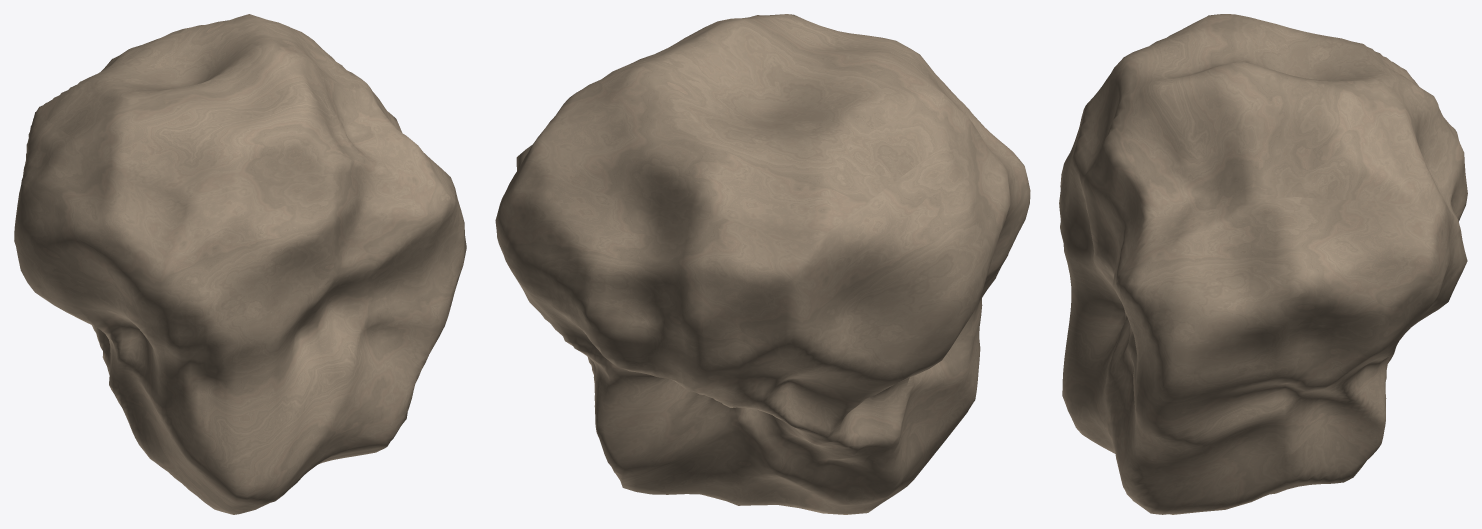
The model's file is boulder6.fbx.
3 views of the same model, side by side, from view 1: azimuth 30°, elevation 25°; view 2: azimuth 150°, elevation 25°; view 3: azimuth 270°, elevation 25° (orthographic). The views are drawn at different scales.
Visible parts, largest first — view 1: cube.sphere.32; view 2: cube.sphere.32; view 3: cube.sphere.32.
Boxes of the visible parts, <box> form: cube.sphere.32: <box>14,14,466,514</box>; cube.sphere.32: <box>495,14,1030,514</box>; cube.sphere.32: <box>1059,14,1467,514</box>.
Size of the model in its own units: 125 by 127 by 107.
